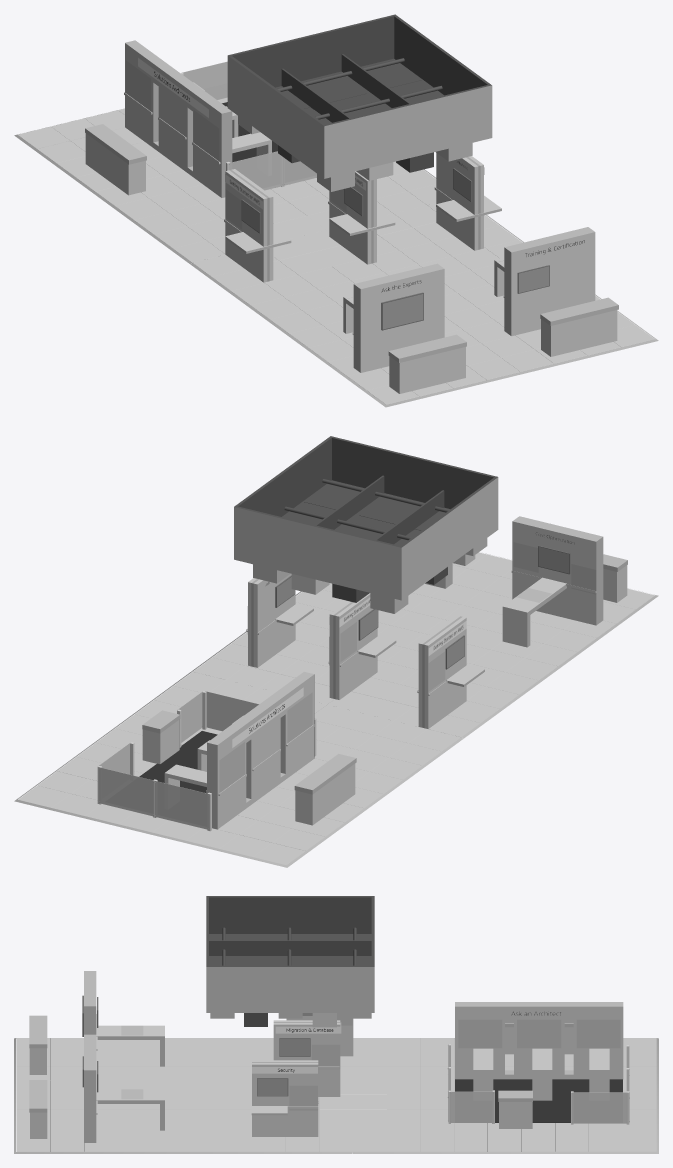
Rendered from AWS_Booth_V1.fbx.
3 renders of one model, top to bottom at view 1: azimuth 30°, elevation 25°; view 2: azimuth 150°, elevation 25°; view 3: azimuth 270°, elevation 25°, orthographic. The views are drawn at different scales.
Visible parts, largest first — view 1: polySurface917, polySurface1168, polySurface1134, polySurface1082, polySurface1091, polySurface1111, polySurface1171, polySurface2637, polySurface915, polySurface1073, polySurface1079, polySurface1110 (+18 smaller); view 2: polySurface917, polySurface1168, polySurface1134, polySurface1091, polySurface2629 (×2), polySurface2637, polySurface1111, polySurface1171, polySurface1110, polySurface915, polySurface2648, polySurface1075 (+16 smaller); view 3: polySurface917, polySurface1168, polySurface1134, polySurface1111, polySurface2631 (×2), pPlane1, pCube1, polySurface1171, polySurface915, polySurface1110, polySurface1082, pPlane14 (+23 smaller).
Part boxes in pixels (x1,y1,x2,y2): polySurface917: [18, 97, 654, 404]; polySurface1168: [227, 14, 492, 178]; polySurface1134: [125, 40, 232, 197]; polySurface1082: [504, 227, 595, 336]; polySurface1091: [353, 263, 444, 372]; polySurface1111: [436, 153, 483, 250]; polySurface1171: [275, 58, 443, 124]; polySurface2637: [225, 169, 273, 282]; polySurface915: [14, 110, 658, 407]; polySurface1073: [389, 347, 465, 393]; polySurface1079: [541, 310, 617, 356]; polySurface1110: [329, 171, 376, 264]; polySurface917: [18, 552, 654, 864]; polySurface1168: [234, 436, 498, 600]; polySurface1134: [207, 671, 314, 829]; polySurface1091: [512, 516, 603, 625]; polySurface2629 (×2): [99, 691, 258, 816]; polySurface2637: [418, 615, 466, 728]; polySurface1111: [248, 573, 295, 667]; polySurface1171: [282, 480, 450, 545]; polySurface1110: [329, 593, 377, 699]; polySurface915: [14, 553, 658, 867]; polySurface2648: [154, 781, 209, 829]; polySurface1075: [295, 764, 355, 825]; polySurface917: [17, 1038, 656, 1151]; polySurface1168: [206, 896, 374, 1012]; polySurface1134: [455, 1002, 623, 1079]; polySurface1111: [252, 1060, 318, 1136]; polySurface2631 (×2): [450, 1091, 627, 1123]; pPlane1: [455, 1079, 622, 1122]; pCube1: [209, 940, 371, 955]; polySurface1171: [209, 934, 371, 965]; polySurface915: [14, 1038, 658, 1153]; polySurface1110: [273, 1020, 340, 1096]; polySurface1082: [84, 1034, 96, 1142]; pPlane14: [517, 1019, 561, 1048].
Bounding box in the file's own units: 8.14 × 5.35 × 19.18.
